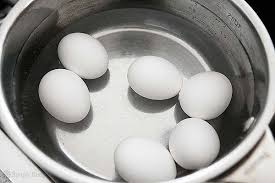eggs: (37, 67, 94, 127), (114, 129, 175, 180), (58, 29, 113, 81), (127, 50, 181, 99), (183, 67, 228, 120), (169, 117, 215, 165)
